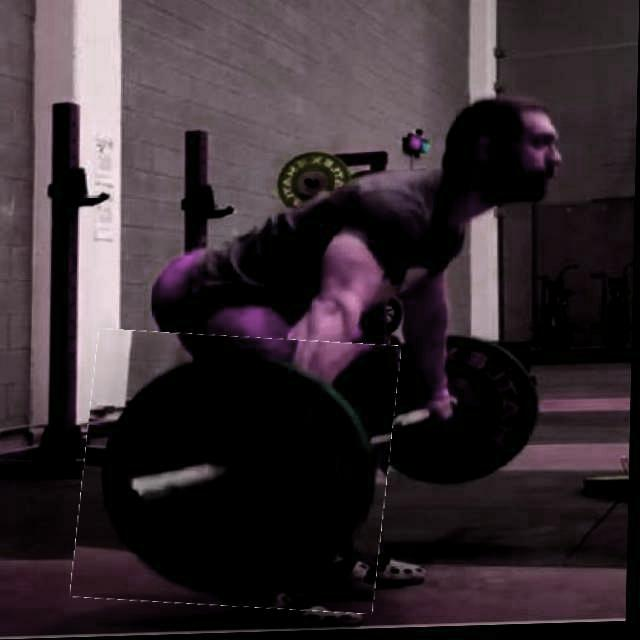barbell: (79, 330, 397, 617)
